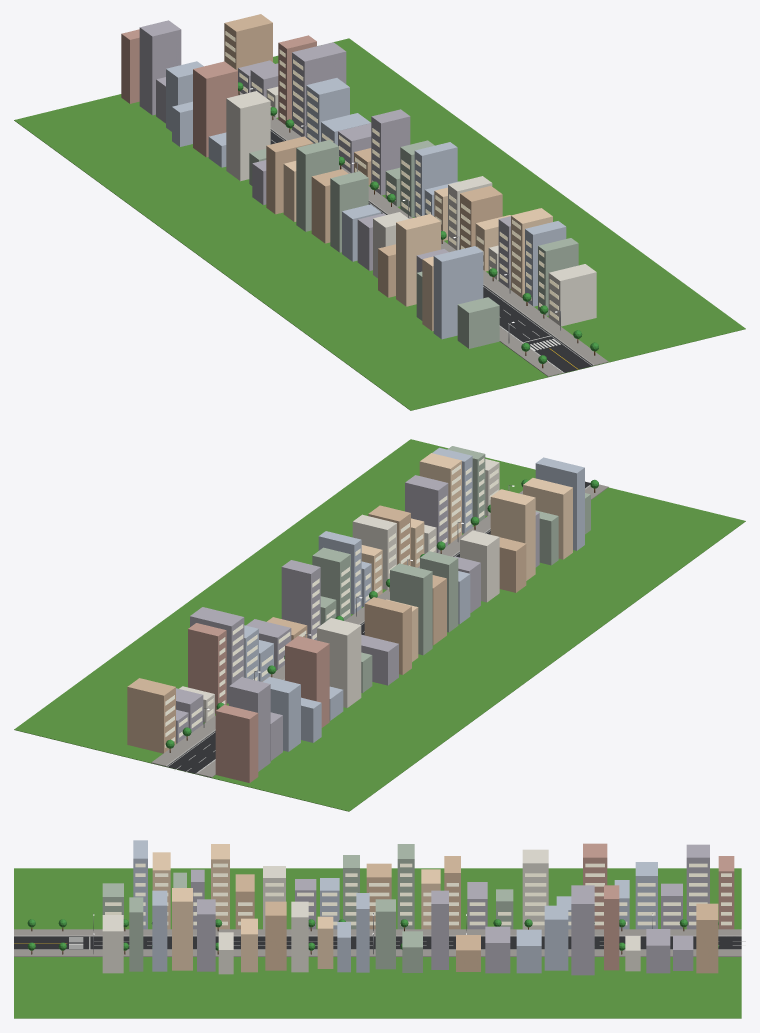
File: stage.glb
3 views of the same model, one above another, from view 1: azimuth 30°, elevation 25°; view 2: azimuth 150°, elevation 25°; view 3: azimuth 270°, elevation 25° (orthographic). The views are drawn at different scales.
Visible parts, largest first — view 1: Ground, Building1, Building17, Building19, Sidewalk+1, Building23, Building5, Road, Building25, Building44, Building39, Building49 (+29 smaller); view 2: Ground, Building24, Building49, Building17, Building19, Building45, Building5, Building39, Building12, Building14, Building29, Building2 (+26 smaller); view 3: Ground, Road, Sidewalk-1, Building44, Sidewalk+1, Building28, Building17, Building43, Building49, Building32, Building37, Building39 (+41 smaller).
Part boxes in pixels (x1,y1,x2,y2): Ground: (14,38,745,410); Building1: (433,246,483,339); Building17: (226,91,270,181); Building19: (193,61,237,157); Sidewalk+1: (238,91,608,365); Building23: (139,20,181,115); Building5: (396,214,440,306); Road: (270,130,592,373); Building25: (548,264,596,326); Building44: (292,42,346,137); Building39: (371,109,410,195); Building49: (224,14,272,70); Ground: (14,439,745,811); Building24: (215,704,258,782); Building49: (127,678,175,753); Building17: (317,618,361,707); Building19: (285,636,329,727); Building45: (188,623,226,713); Building5: (490,489,535,580); Building39: (281,560,320,640); Building12: (390,563,432,655); Building14: (364,597,411,674); Building29: (405,475,448,552); Building2: (523,478,572,559); Ground: (14,868,741,1018); Road: (14,936,741,949); Sidewalk-1: (14,929,741,936); Building44: (571,885,594,975); Sidewalk+1: (14,949,741,956); Building28: (172,888,192,970); Building17: (522,849,548,929); Building43: (544,905,568,970); Building49: (696,903,718,973); Building32: (265,901,286,970); Building37: (375,899,395,969); Building39: (431,890,448,969).
Bounding box in the file's own units: 80 × 18.1 × 165.
